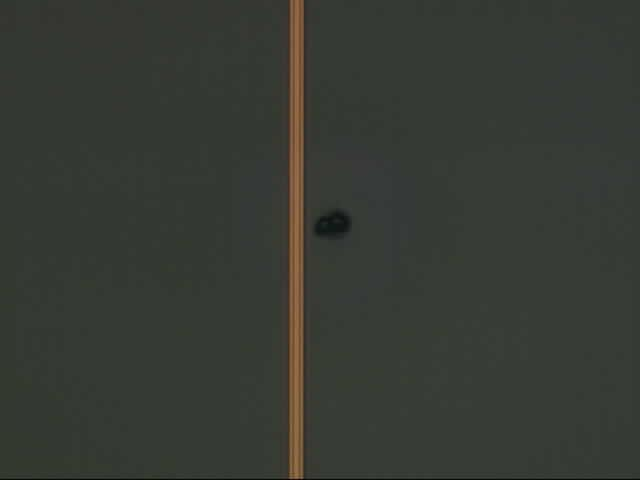PIQ PARTICLE: (309, 206, 358, 246)
